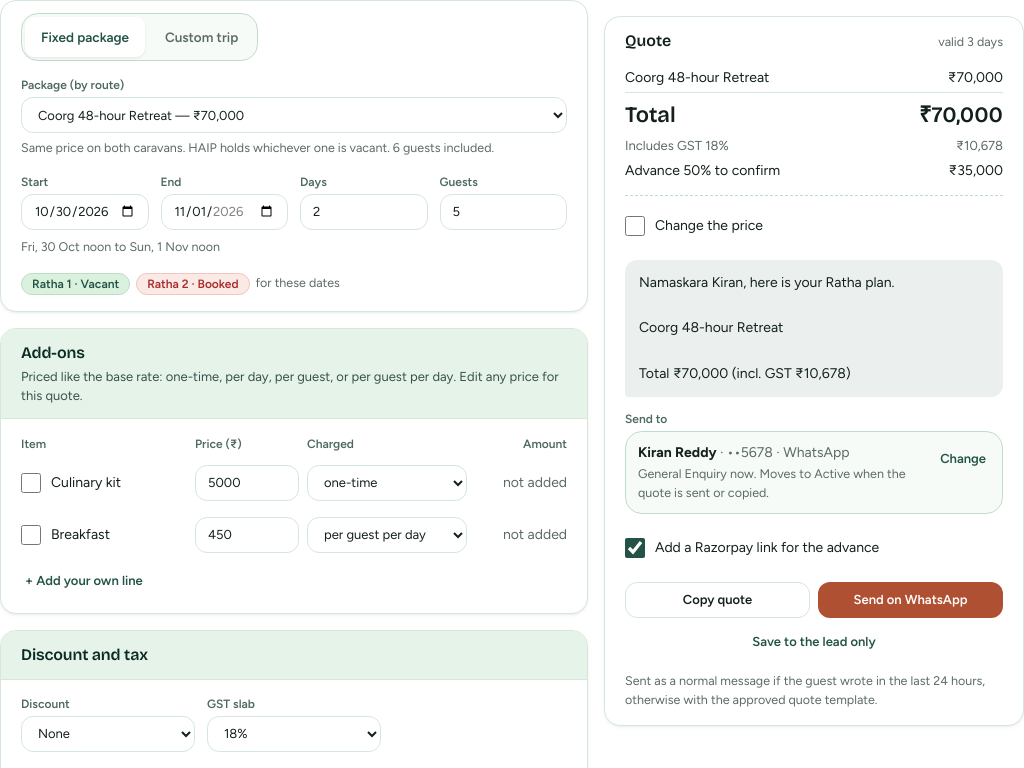
QuoteCalculator › opens prefilled from a chat and sends; the receipt says what got recorded
Check: the text "Kiran Reddy" is shown, box x1=638 y1=444 x2=717 y2=461
Check: the field labelled "Guests" holds "5", box x1=440 y1=194 x2=567 y2=230
Step 1. Click the button "Send on WhatsApp" → (910, 600), box x1=818 y1=582 x2=1003 y2=618
(page scrolled)
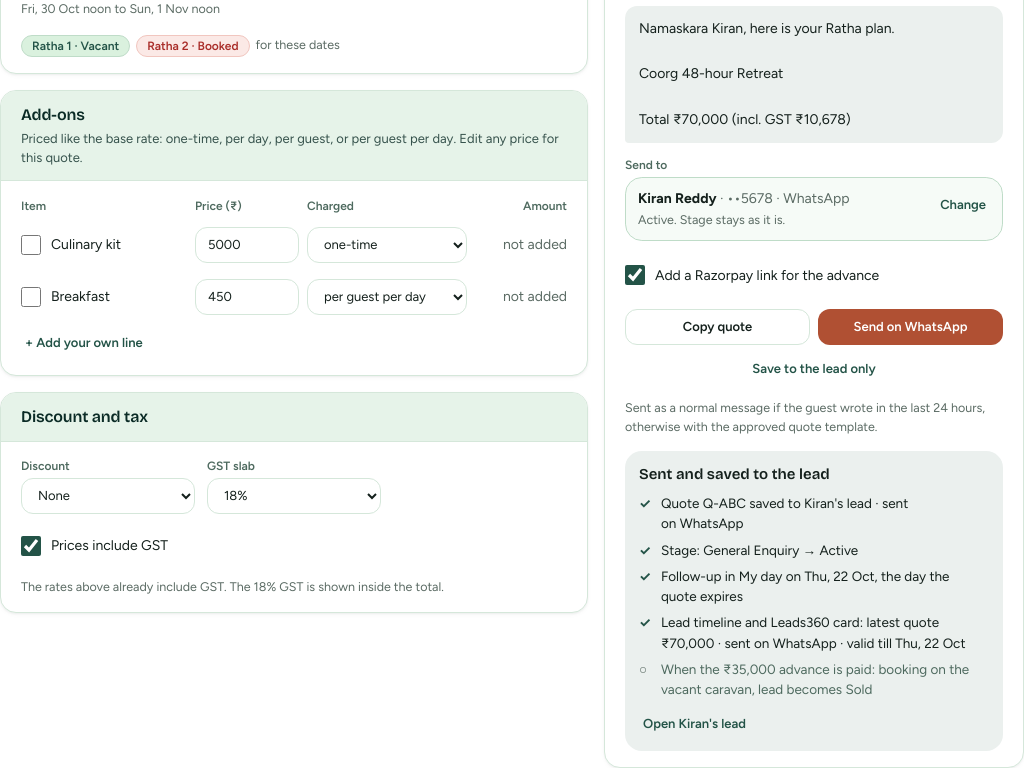
Check: the heading "Sent and saved to the lead" is shown, box x1=639 y1=464 x2=830 y2=482
Check: the list item "Stage: General Enquiry → Active" is shown, box x1=661 y1=542 x2=858 y2=558
